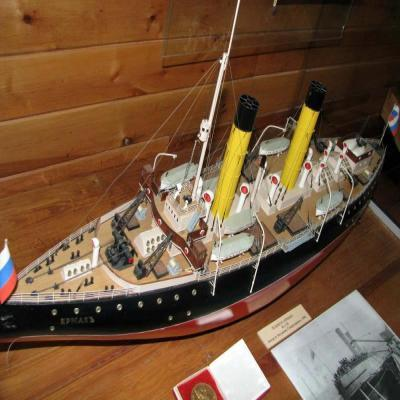other: (0, 0, 343, 36)
